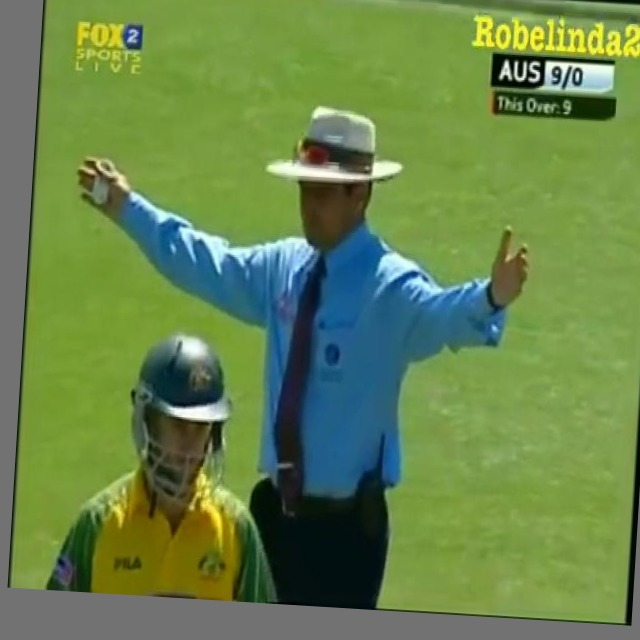Wide: (45, 84, 546, 619)
